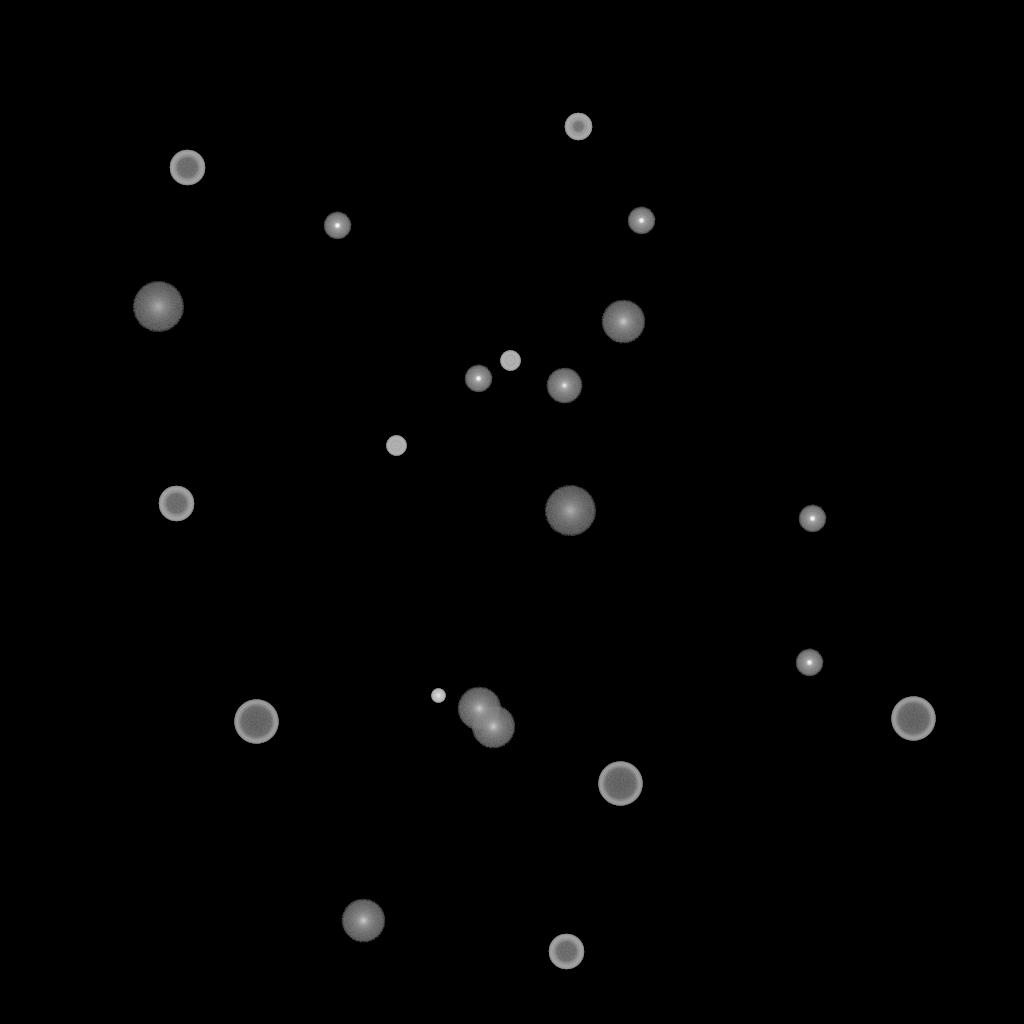depth:-10: (323, 212, 351, 240), (795, 649, 823, 677), (627, 207, 655, 235), (464, 365, 492, 393), (798, 505, 826, 533)
depth:-30: (431, 689, 445, 703)
depth:-40: (386, 436, 406, 456), (500, 351, 520, 371)
depth:-50: (564, 113, 592, 141)
depth:-60: (158, 486, 194, 522), (169, 150, 205, 186), (548, 934, 584, 970)
depth:-70: (598, 762, 642, 806), (234, 700, 278, 744), (891, 697, 935, 741)
depth:0: (546, 368, 582, 404)
depth:10: (457, 687, 501, 731), (471, 705, 515, 749), (601, 300, 645, 344), (341, 899, 385, 943)
depth:20: (132, 282, 184, 332), (544, 486, 596, 536)
